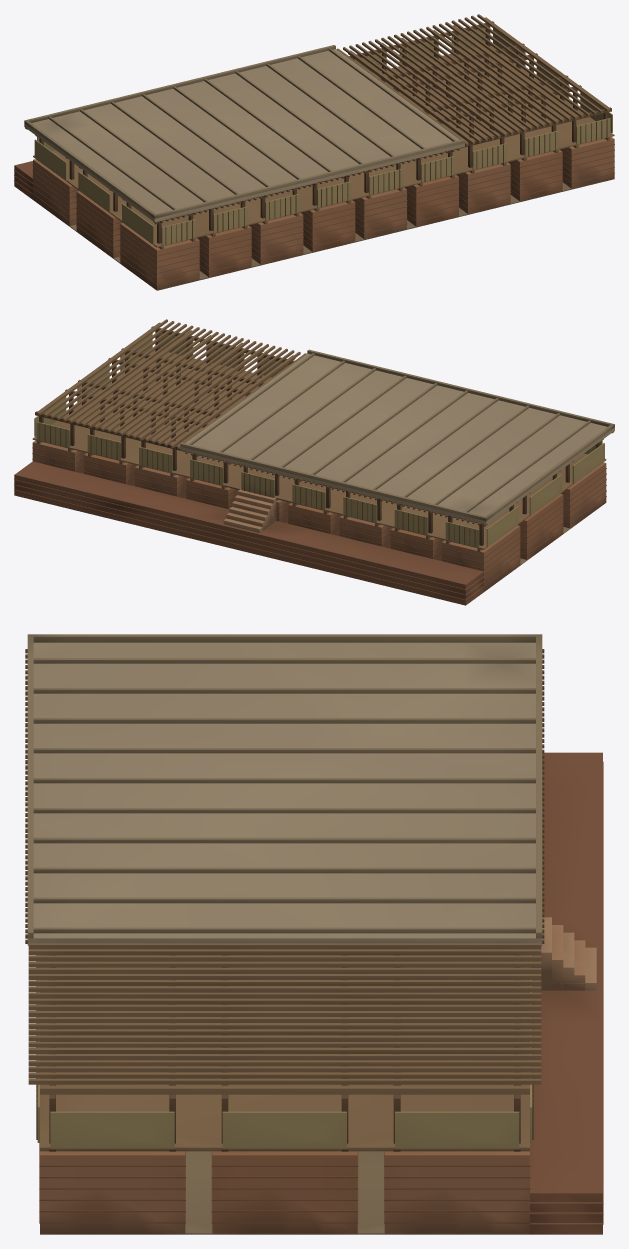
File: great-hall.glb
The picture shows the model from 3 angles, top to bottom: view 1: azimuth 30°, elevation 25°; view 2: azimuth 150°, elevation 25°; view 3: azimuth 270°, elevation 25°; orthographic projection. The views are drawn at different scales.
Parts seen in each view (by area): view 1: p2_roof, p0_brick podium, p1_timber frame; view 2: p2_roof, p0_brick podium, p1_timber frame; view 3: p2_roof, p0_brick podium, p1_timber frame.
Part boxes in pixels (<box>): p2_roof: <box>24,14,609,224</box>; p0_brick podium: <box>14,137,614,290</box>; p1_timber frame: <box>33,17,614,249</box>; p2_roof: <box>38,319,614,526</box>; p0_brick podium: <box>14,440,606,605</box>; p1_timber frame: <box>32,322,606,551</box>; p2_roof: <box>25,634,544,1084</box>; p0_brick podium: <box>39,752,603,1234</box>; p1_timber frame: <box>36,917,596,1151</box>.
Size of the model in its own units: 50.72 by 8.2 by 27.74.
